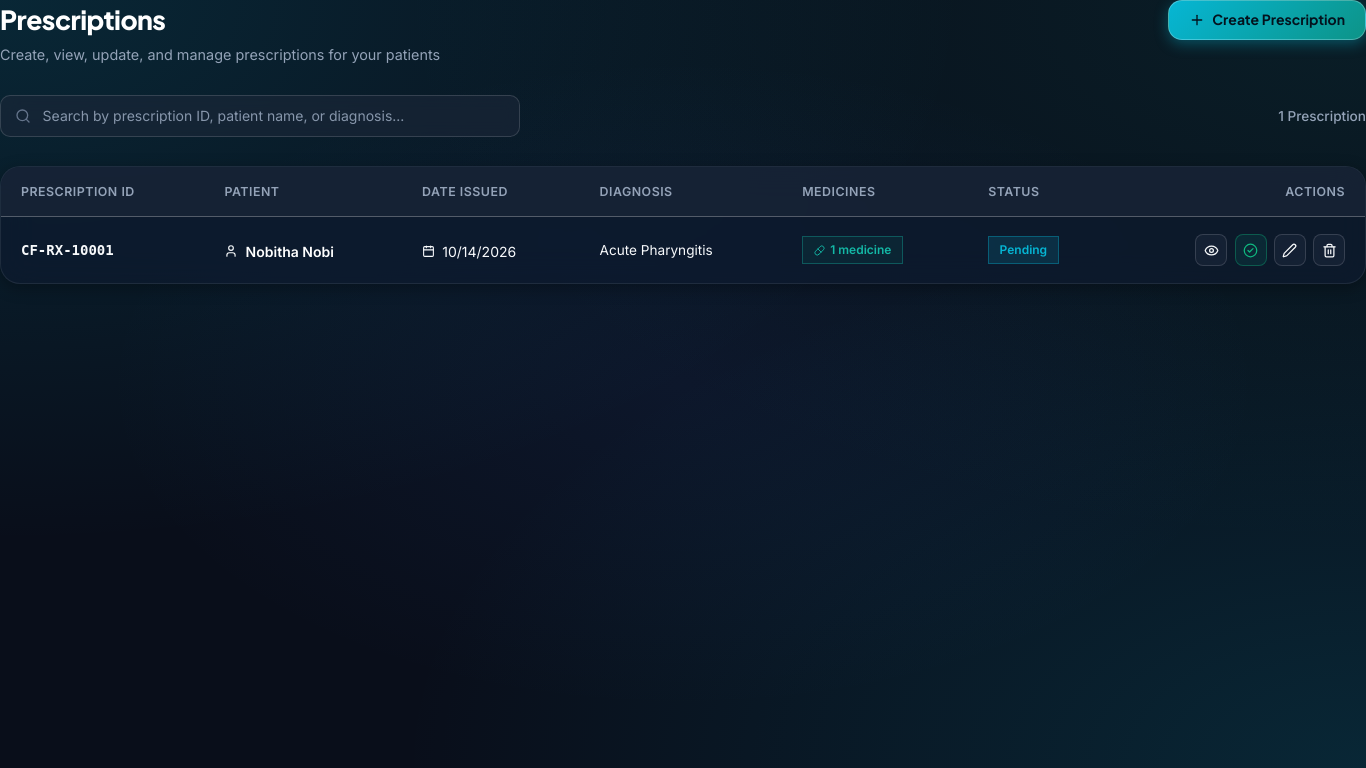
Test: CareFlow HMS — Doctor Dashboard Suite › DoctorPrescriptionsPage › displays prescriptions and opens create prescription modal with eligible patients
The width and height of the screenshot is (1366, 768).
Expected: the text "Nobitha Nobi" is shown, [246,240,334,262]
// Click Create Prescription
Step 1. Click the button "Create Prescription" → (1267, 20), box [1168,0,1365,40]
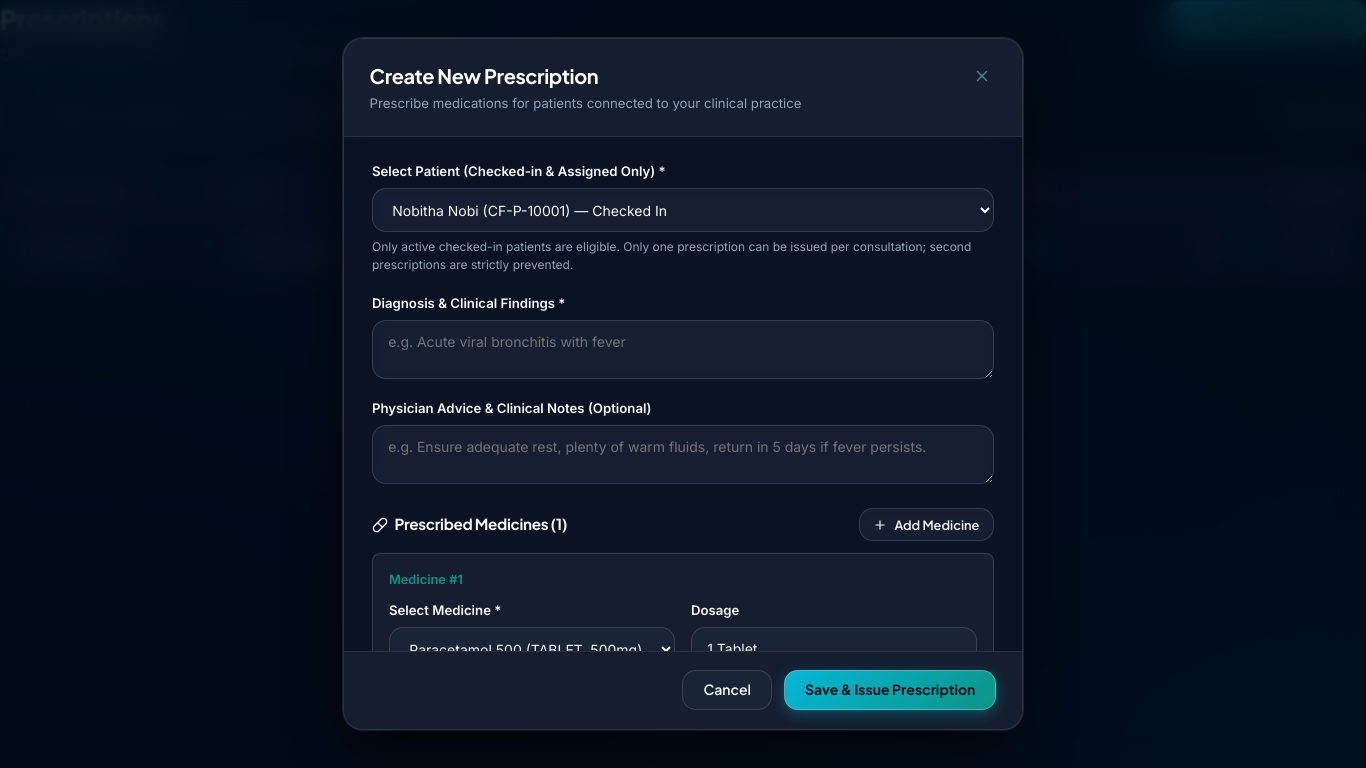
Result: the heading "Create New Prescription" is shown at [370,63,598,88]
Result: the text "Select Patient (Checked-in & Assigned Only) *" is shown at [372,163,666,179]
Result: the text "Diagnosis & Clinical Findings *" is shown at [372,295,566,311]
